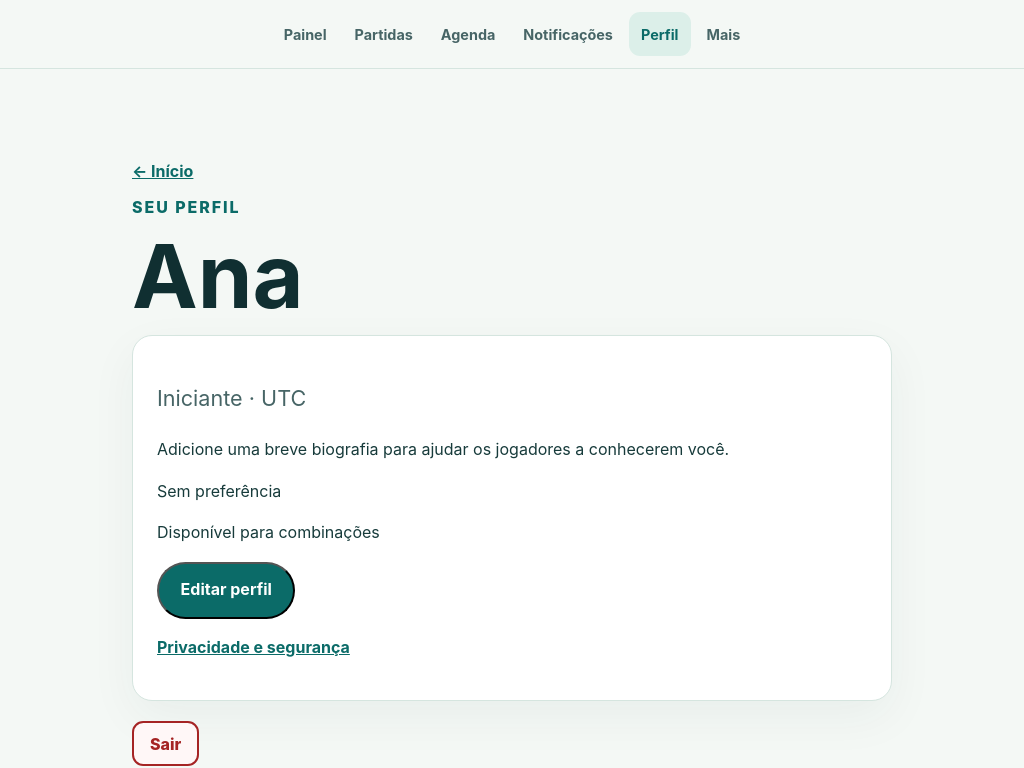
it: profile editing › signs out from the profile page and sends the user to login
Check: the heading "Ana" is shown, box [132,223,304,329]
Click the button "Sair".
click(166, 744)  # box [132,721,199,766]
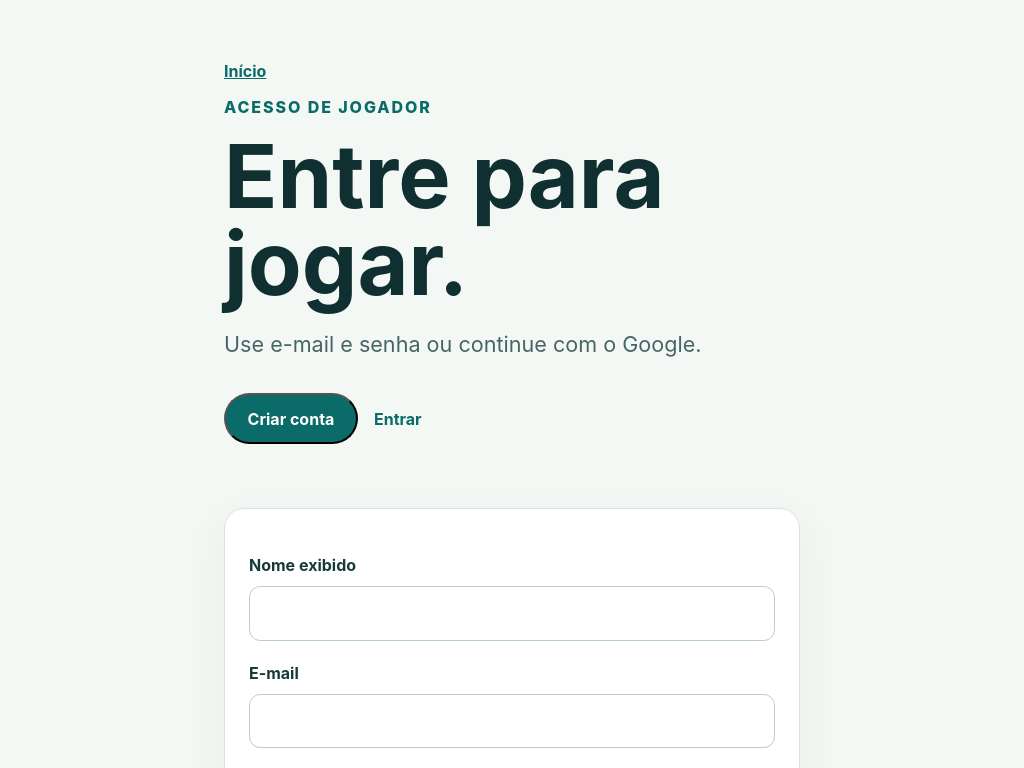
Check: the heading "Entre para jogar." is shown, box [224,123,665,316]
